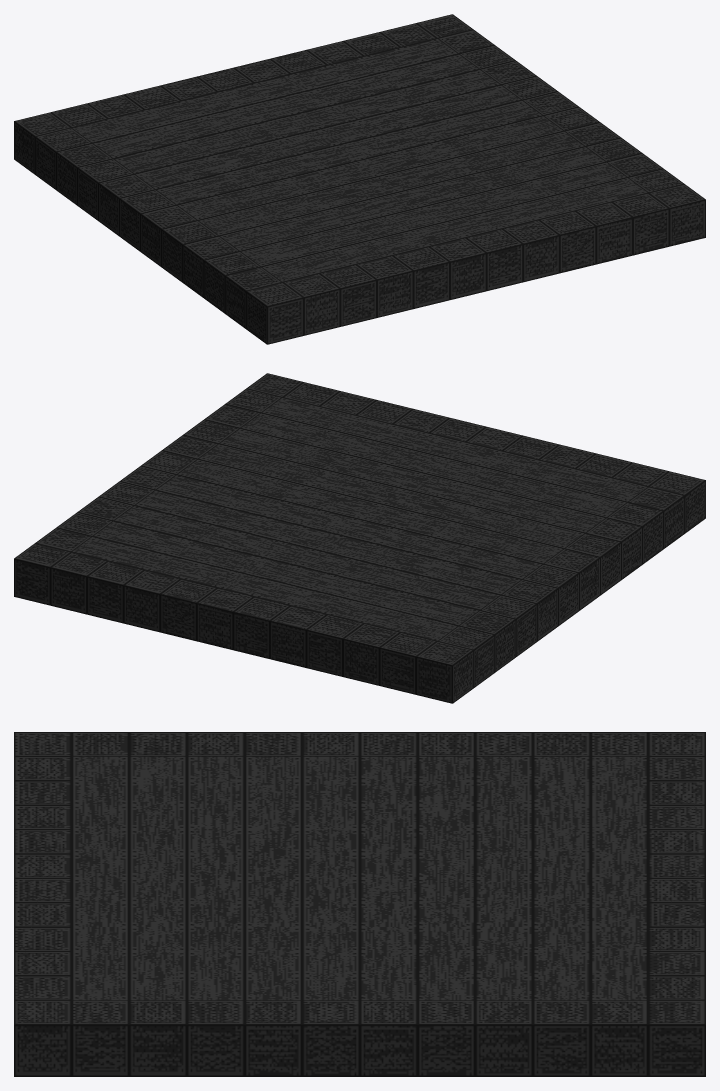
Rendered from Platform1x3.fbx.
The picture shows the model from 3 angles, top to bottom: view 1: azimuth 30°, elevation 25°; view 2: azimuth 150°, elevation 25°; view 3: azimuth 270°, elevation 25°; orthographic projection. The views are drawn at different scales.
Visible parts, largest first — view 1: Cube.016; view 2: Cube.016; view 3: Cube.016.
Part boxes in pixels (x1,y1,x2,y2): Cube.016: (14,14,705,344); Cube.016: (14,373,705,703); Cube.016: (14,732,705,1076).
Size of the model in its own units: 1200 by 100 by 1200.
